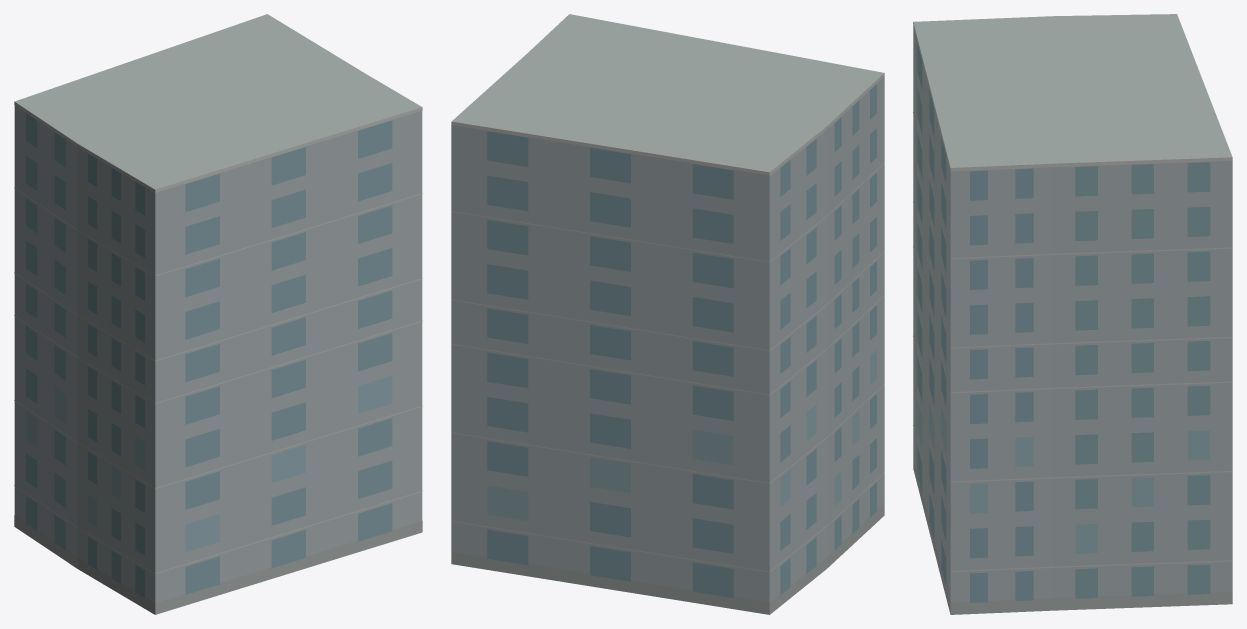
The model's file is survey-upis-32487019.glb.
3 views of the same model, side by side, from view 1: azimuth 30°, elevation 25°; view 2: azimuth 150°, elevation 25°; view 3: azimuth 270°, elevation 25° (orthographic). The views are drawn at different scales.
Visible parts, largest first — view 1: survey-upis-32487019.tmp; view 2: survey-upis-32487019.tmp; view 3: survey-upis-32487019.tmp.
Boxes of the visible parts, x1,y1,x2,y2 form: survey-upis-32487019.tmp: [14, 14, 422, 614]; survey-upis-32487019.tmp: [451, 14, 884, 614]; survey-upis-32487019.tmp: [913, 14, 1232, 614].
Size of the model in its own units: 22.56 by 30.5 by 19.78.
